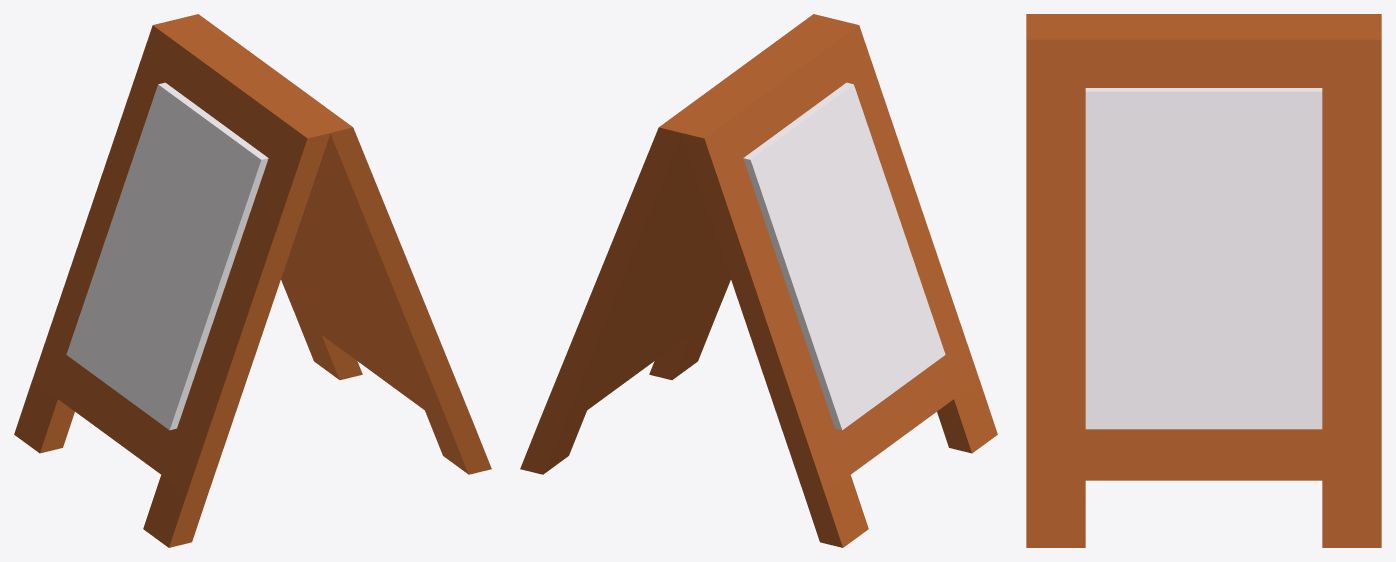
The model's file is A-FRAME SIGN.glb.
3 views of the same model, side by side, from view 1: azimuth 30°, elevation 25°; view 2: azimuth 150°, elevation 25°; view 3: azimuth 270°, elevation 25° (orthographic). The views are drawn at different scales.
Parts seen in each view (by area): view 1: A-FRAME SIGN; view 2: A-FRAME SIGN; view 3: A-FRAME SIGN.
Part boxes in pixels (x1,y1,x2,y2): A-FRAME SIGN: (14,14,491,547); A-FRAME SIGN: (520,14,997,547); A-FRAME SIGN: (1026,14,1381,547).
Bounding box in the file's own units: 5.12 × 5.69 × 4.25.
